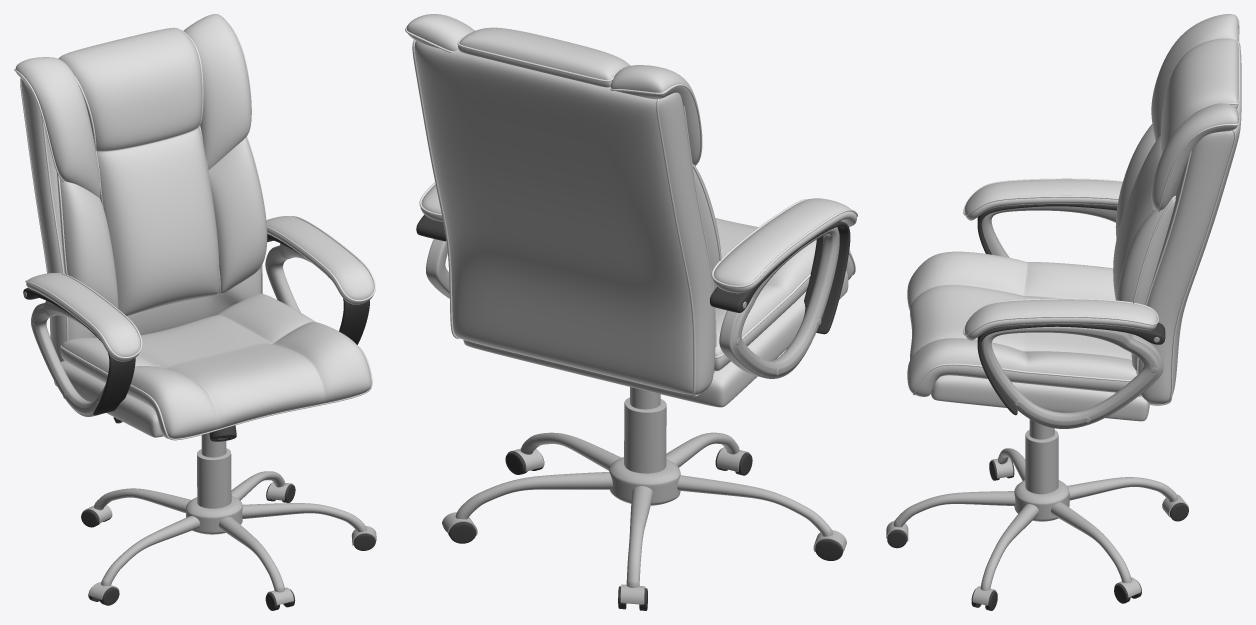
File: Office Chair.glb
The picture shows the model from 3 angles, left to right: view 1: azimuth 30°, elevation 25°; view 2: azimuth 150°, elevation 25°; view 3: azimuth 270°, elevation 25°; orthographic projection. The views are drawn at different scales.
Parts seen in each view (by area): view 1: LeatherRegion, MetalParts, PlasticParts, Strips; view 2: LeatherRegion, MetalParts, PlasticParts, Strips; view 3: LeatherRegion, MetalParts, Strips, PlasticParts.
Boxes of the visible parts, box(x1,y1,x2,y2) form: LeatherRegion: box(15, 14, 373, 438); MetalParts: box(24, 243, 376, 605); PlasticParts: box(23, 234, 375, 610); Strips: box(14, 24, 375, 440); LeatherRegion: box(406, 14, 856, 407); MetalParts: box(426, 227, 846, 604); PlasticParts: box(416, 214, 850, 610); Strips: box(405, 26, 857, 396); LeatherRegion: box(907, 14, 1241, 421); MetalParts: box(886, 206, 1188, 605); Strips: box(912, 21, 1239, 405); PlasticParts: box(887, 204, 1188, 610).
Bounding box in the file's own units: 0.6977 × 1.09 × 0.7307.
Materials: 4 (2 with a texture image).
